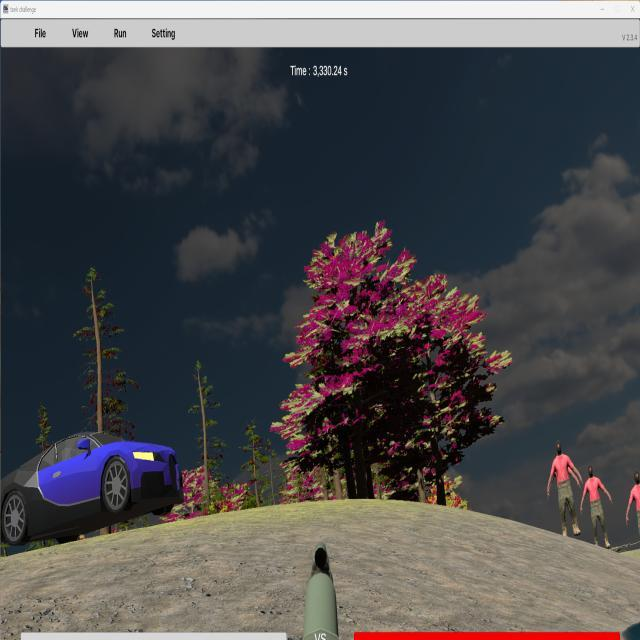Human: (546, 439, 581, 538), (581, 465, 612, 550), (626, 470, 640, 559)
car: (1, 431, 185, 545)
